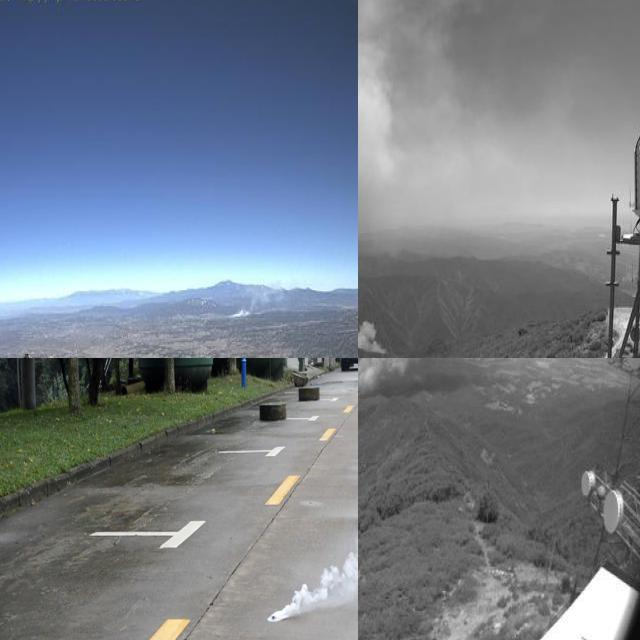smoke: (265, 477, 358, 623), (218, 274, 288, 323)
